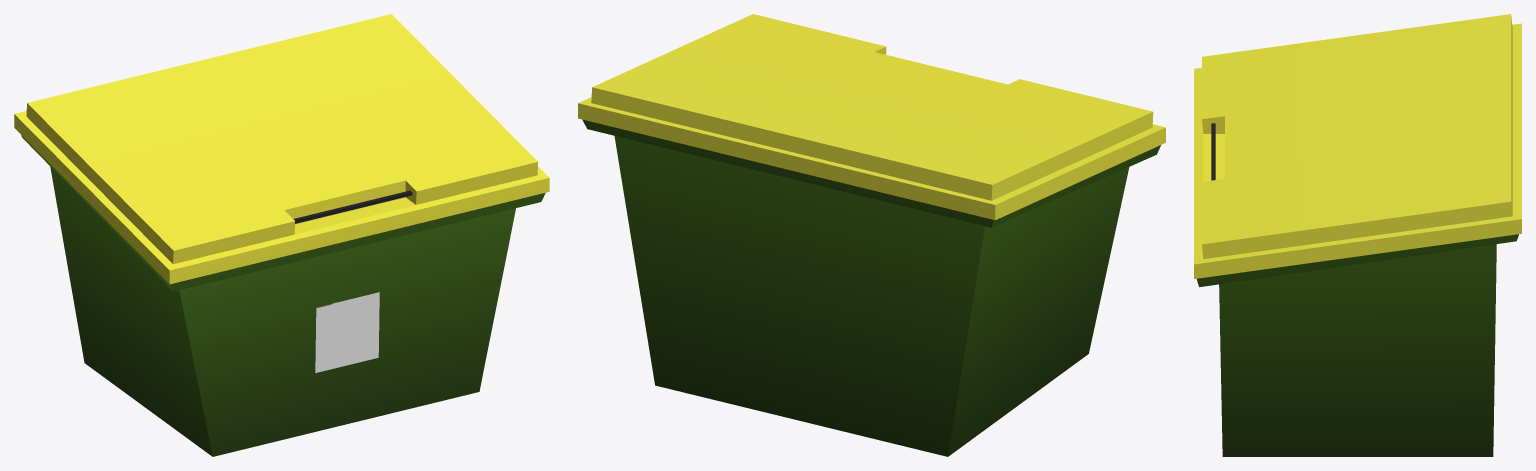
File: TempatSampah.fbx
3 views of the same model, side by side, from view 1: azimuth 30°, elevation 25°; view 2: azimuth 150°, elevation 25°; view 3: azimuth 270°, elevation 25° (orthographic). The views are drawn at different scales.
Visible parts, largest first — view 1: TrashCanBig_LOD0; view 2: TrashCanBig_LOD0; view 3: TrashCanBig_LOD0.
Boxes of the visible parts, bbox=[...] form: TrashCanBig_LOD0: bbox=[14, 14, 549, 456]; TrashCanBig_LOD0: bbox=[578, 14, 1165, 456]; TrashCanBig_LOD0: bbox=[1194, 14, 1521, 456].
Size of what is drawn, in the model's own units: 285 by 191 by 202.
